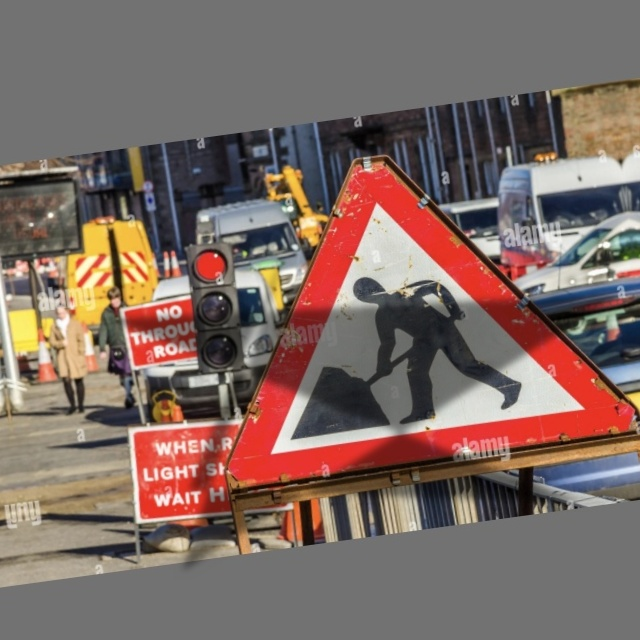Men_at_Work: (213, 141, 611, 492)
